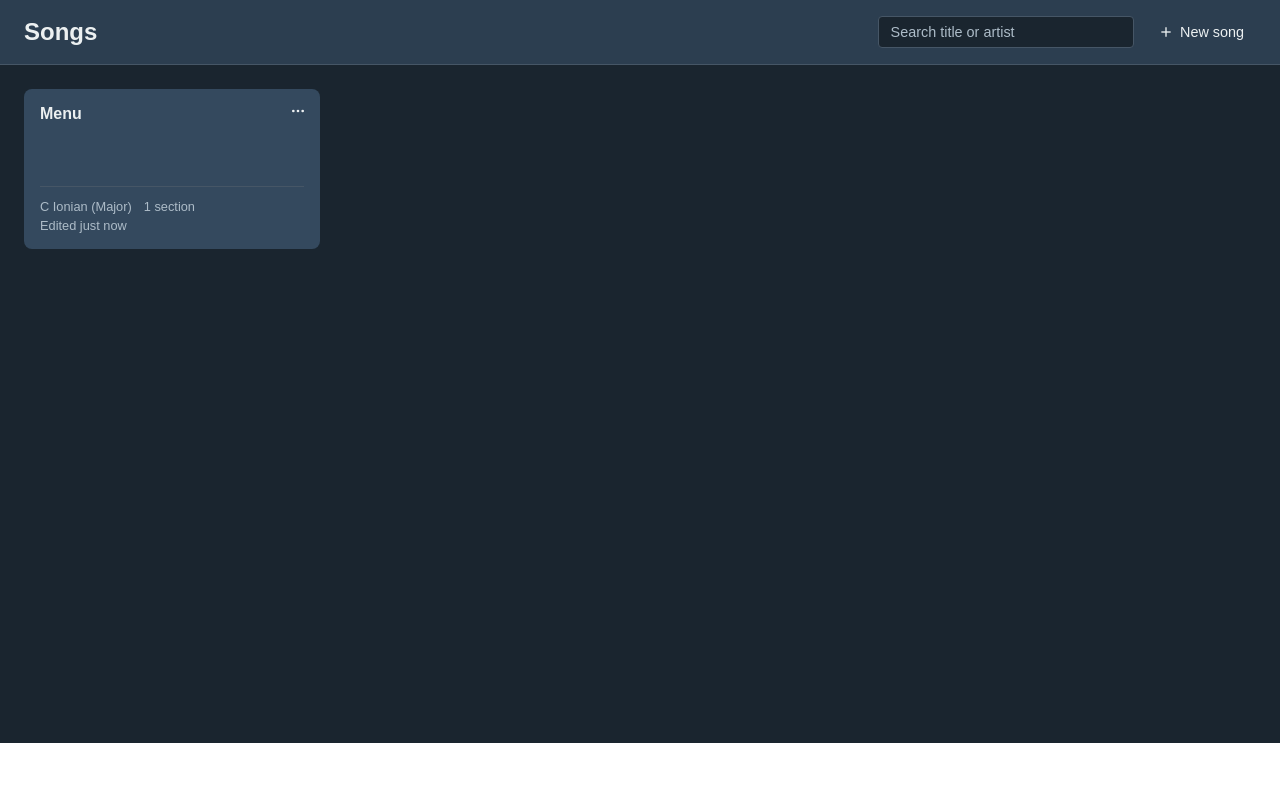
Test case: SongLibraryPageComponent › a card's menu › closes on a click outside it
Click the button with class "card-menu-toggle" at (298, 111), box left=285, top=97, right=312, bottom=125
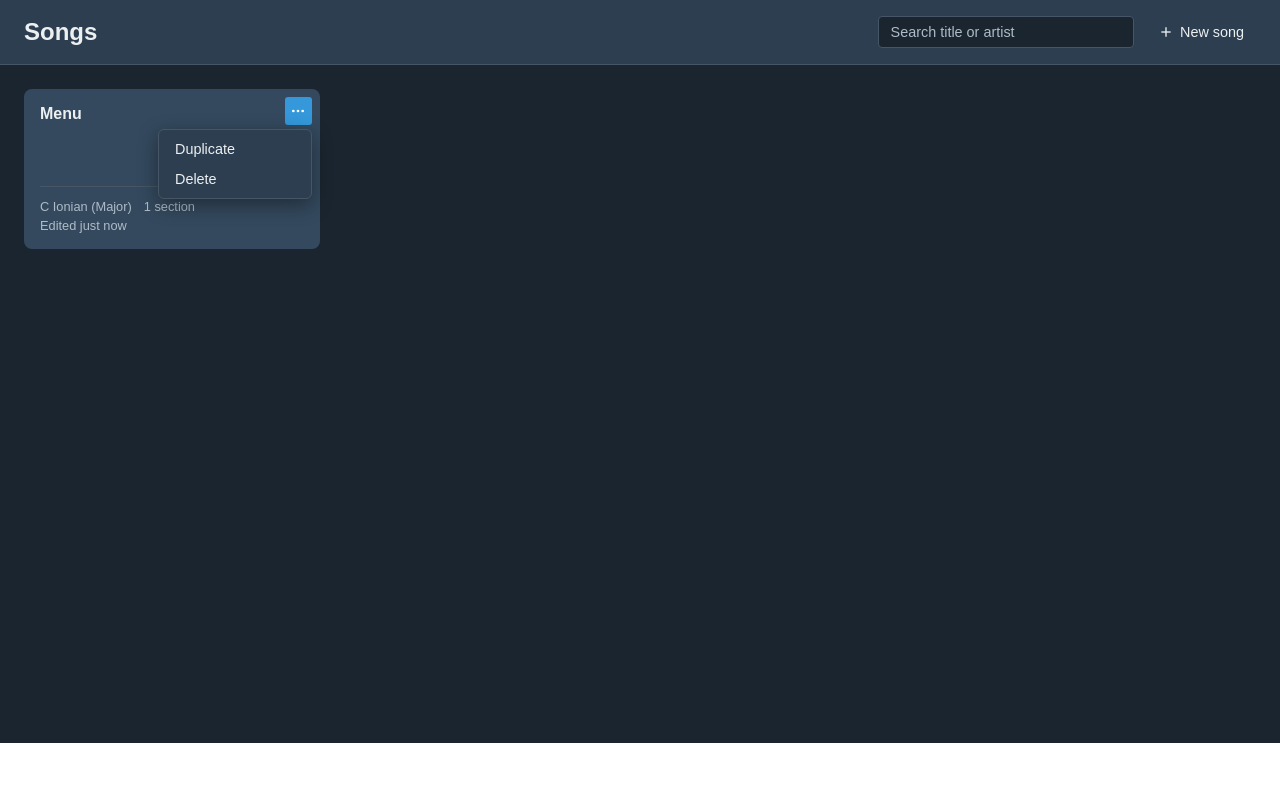
Click the element that starts with "Songs" at (640, 372), box left=0, top=0, right=1279, bottom=743
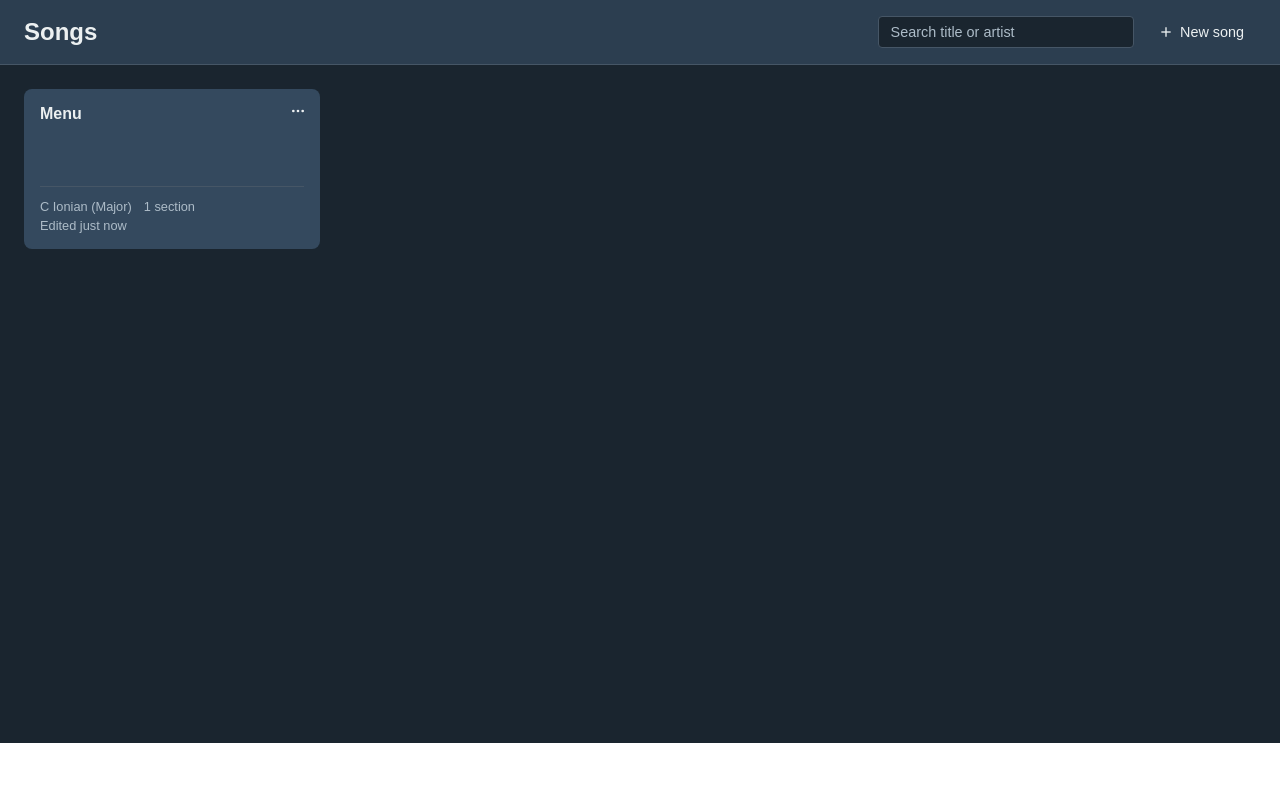
Now the button with class "card-menu-toggle" is collapsed, box left=285, top=97, right=312, bottom=125
